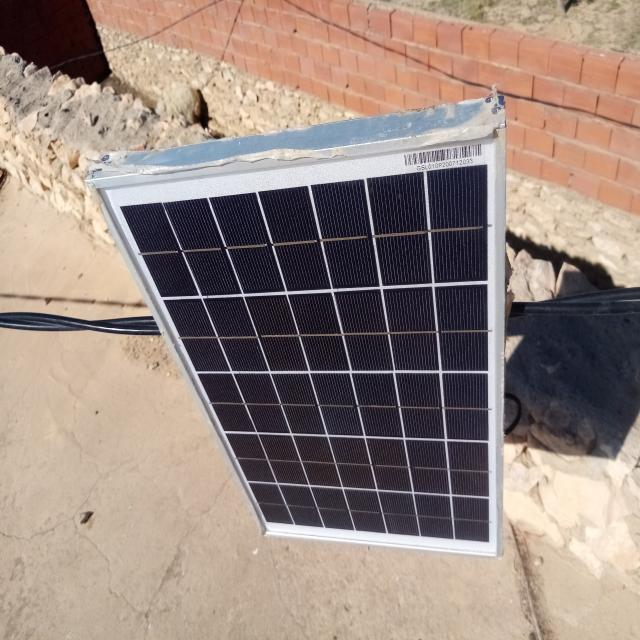no faulty: (94, 125, 500, 554)
